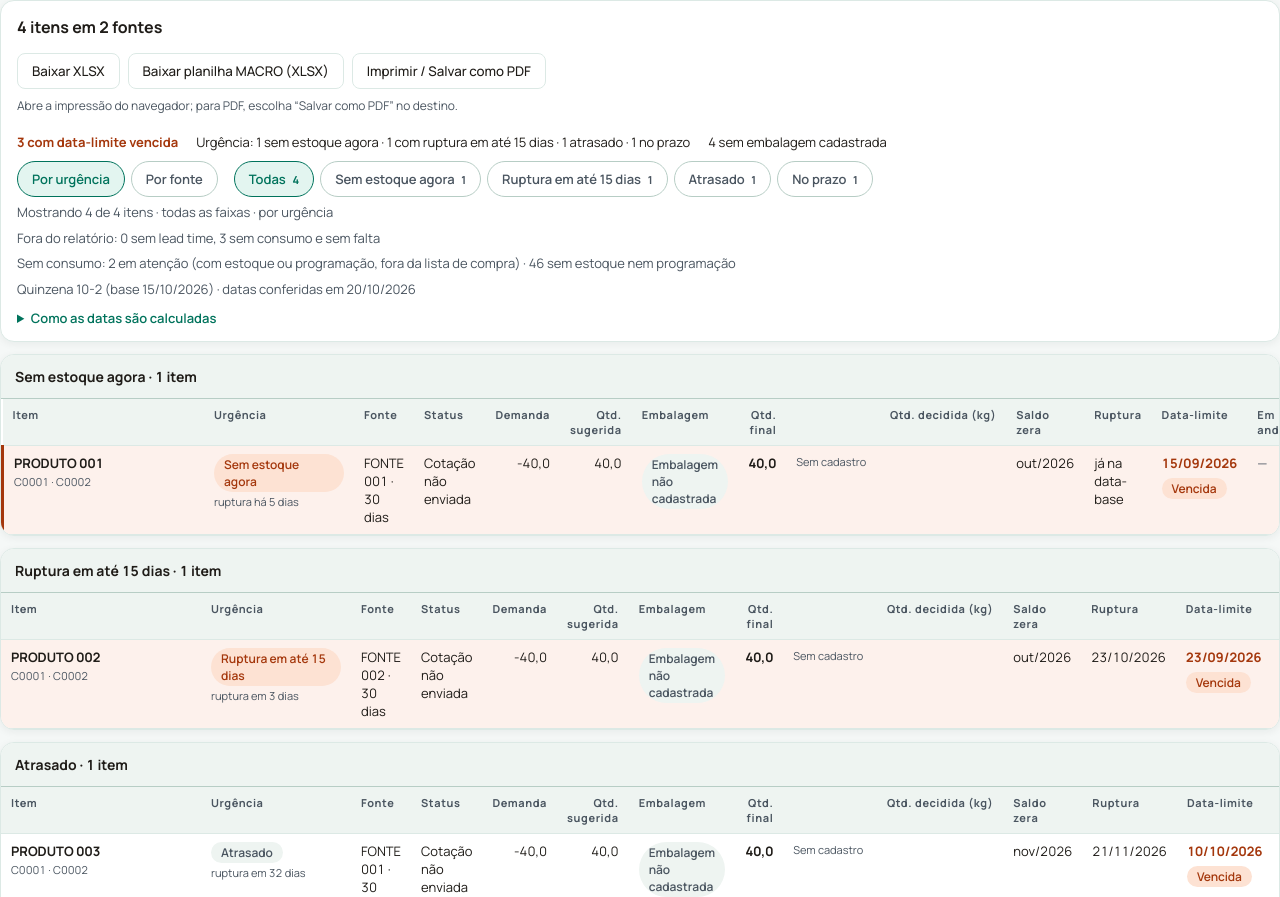
Test case: ForecastRelatorioCompras - urgencia (PR 2D) › filtrar por faixa: 1 linha, linha "Mostrando", e a secao sem consumo continua
Expected: the text "4 itens em 2 fontes" is shown, [17, 16, 162, 38]
Expected: the text "Mostrando 4 de 4 itens · todas as faixas · por urgência" is shown, [17, 203, 333, 221]
Click the button "Atrasado 1".
click(722, 179)  # box [674, 161, 771, 197]
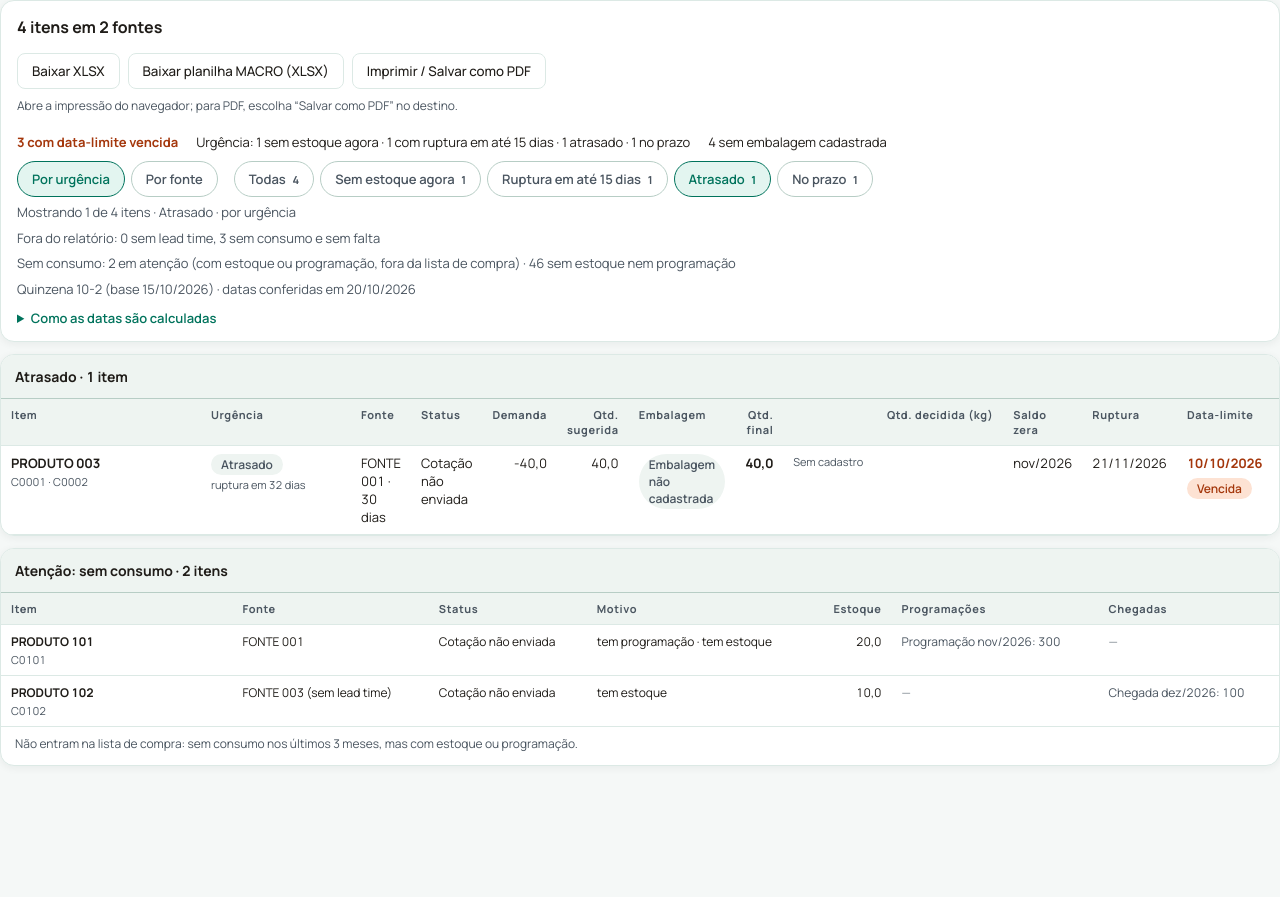
Expected: the element named "Itens sem consumo" is shown, [1, 549, 1279, 727]
Now the text "Mostrando 1 de 4 itens · Atrasado · por urgência" is shown, box [17, 203, 296, 221]
